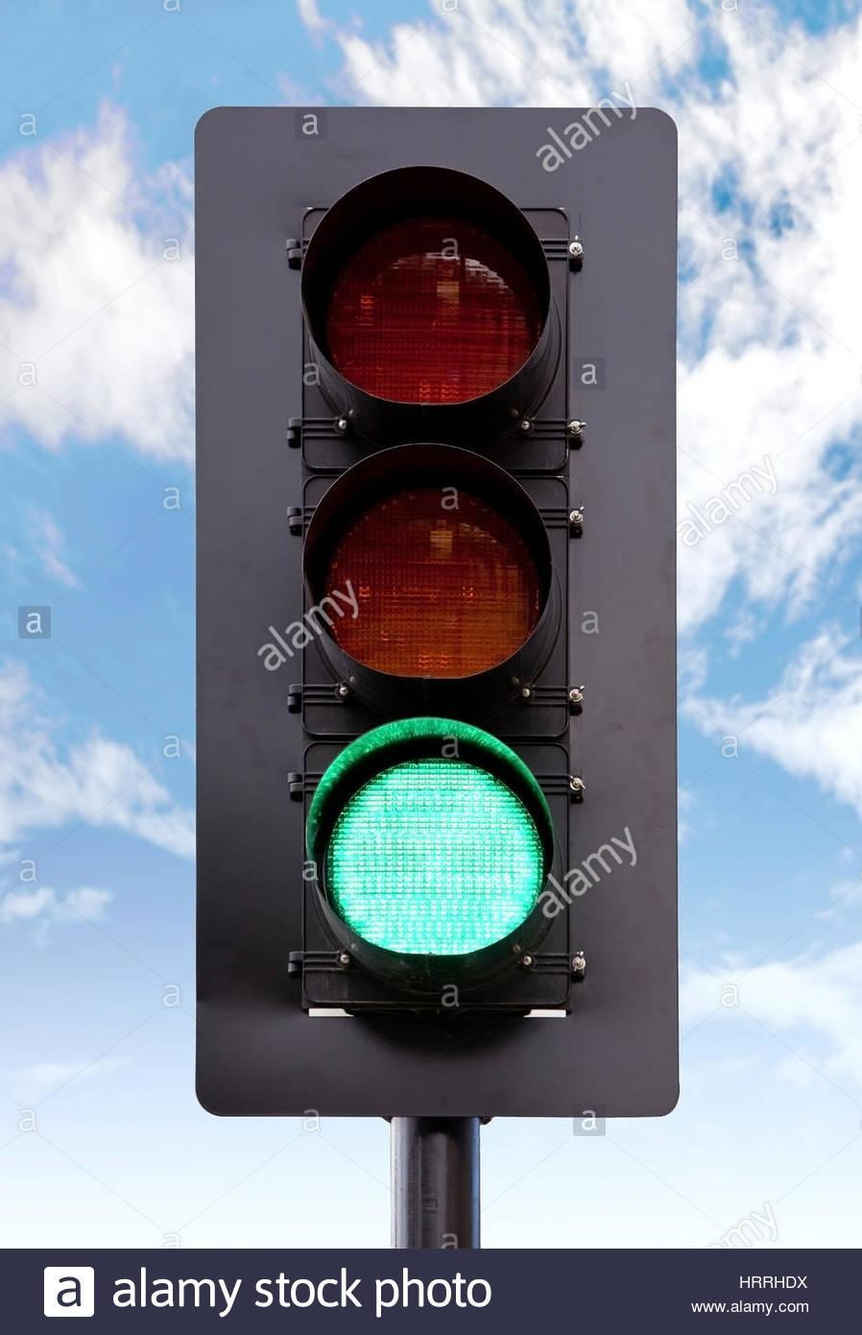green: (179, 99, 666, 1114)
